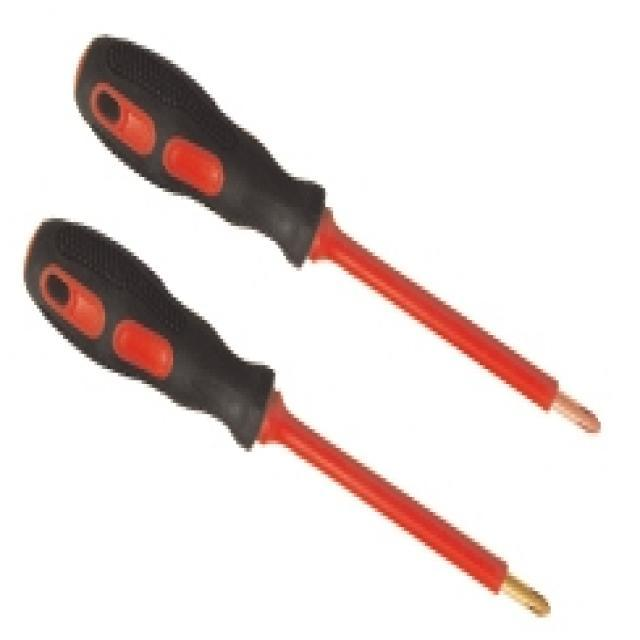screwdriver: (62, 23, 608, 448), (23, 209, 556, 626)
